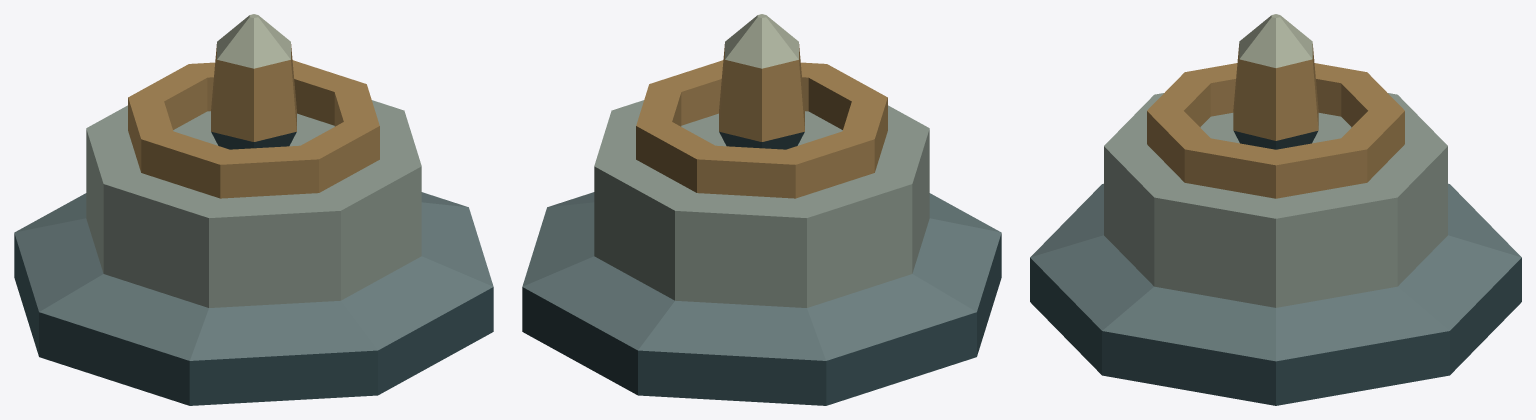
Rendered from seal-plinth.glb.
3 views of the same model, side by side, from view 1: azimuth 30°, elevation 25°; view 2: azimuth 150°, elevation 25°; view 3: azimuth 270°, elevation 25° (orthographic).
Parts seen in each view (by area): view 1: seal-plinth__body; view 2: seal-plinth__body; view 3: seal-plinth__body.
Boxes of the visible parts, x1=… form: seal-plinth__body: x1=14, y1=14, x2=493, y2=405; seal-plinth__body: x1=522, y1=14, x2=1001, y2=405; seal-plinth__body: x1=1030, y1=14, x2=1521, y2=405.
Size of the model in its own units: 1.2 by 0.77 by 1.2.
